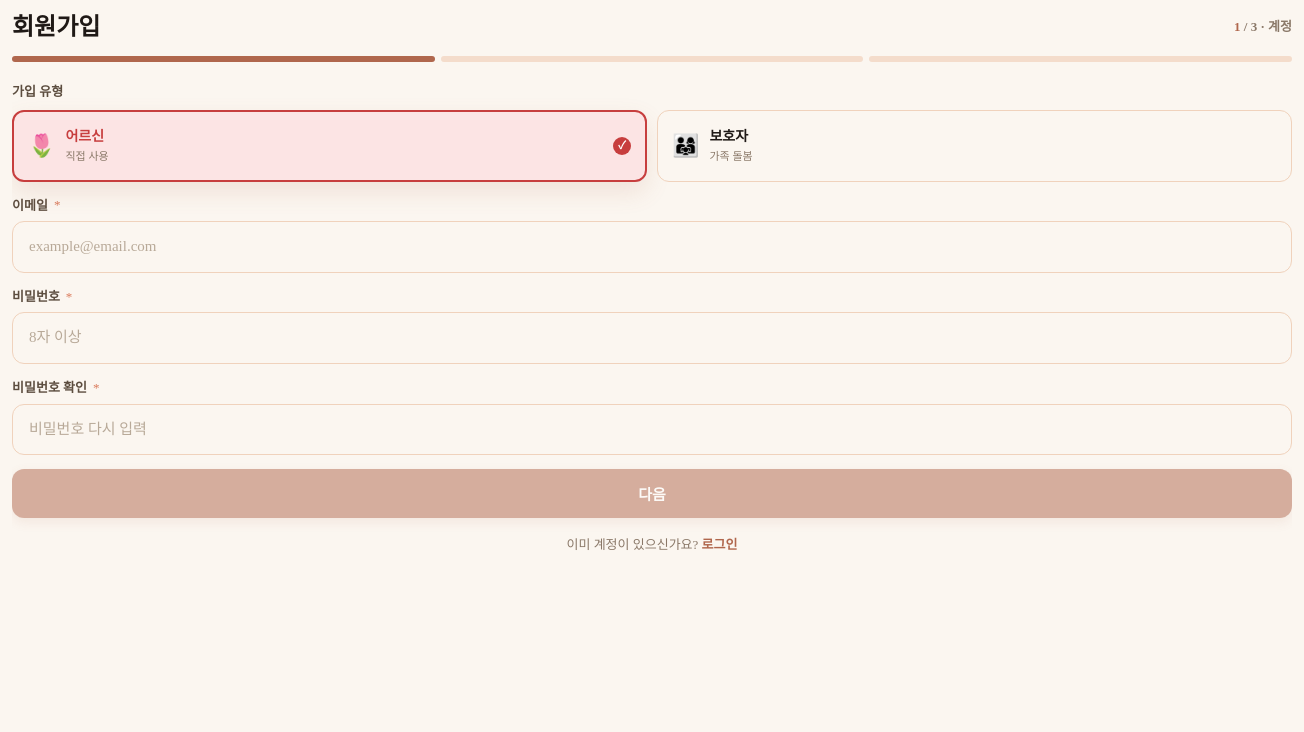
Scenario: 회원가입 단계 (Chrome) › 이메일 가입: 1단계는 계정 칸만, 다음을 누르면 내 정보로 가고 이전으로 돌아와도 입력이 남는다
Expected: the button "다음" is disabled, [12,469,1292,518]
Type "new@test.com" into the field labelled "이메일" at (652, 247), box [13,222,1291,272]
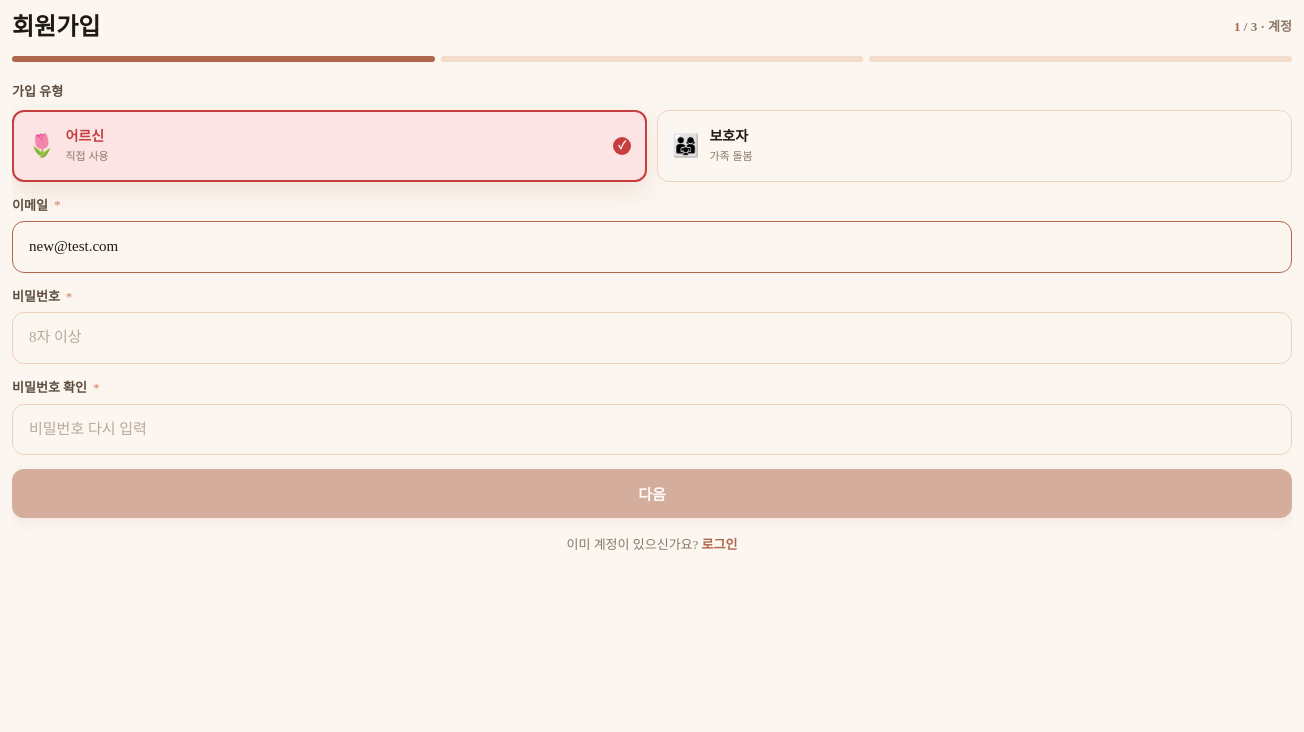
Type "password1!" into the password field labelled "비밀번호" at (652, 338), box [13,313,1291,363]
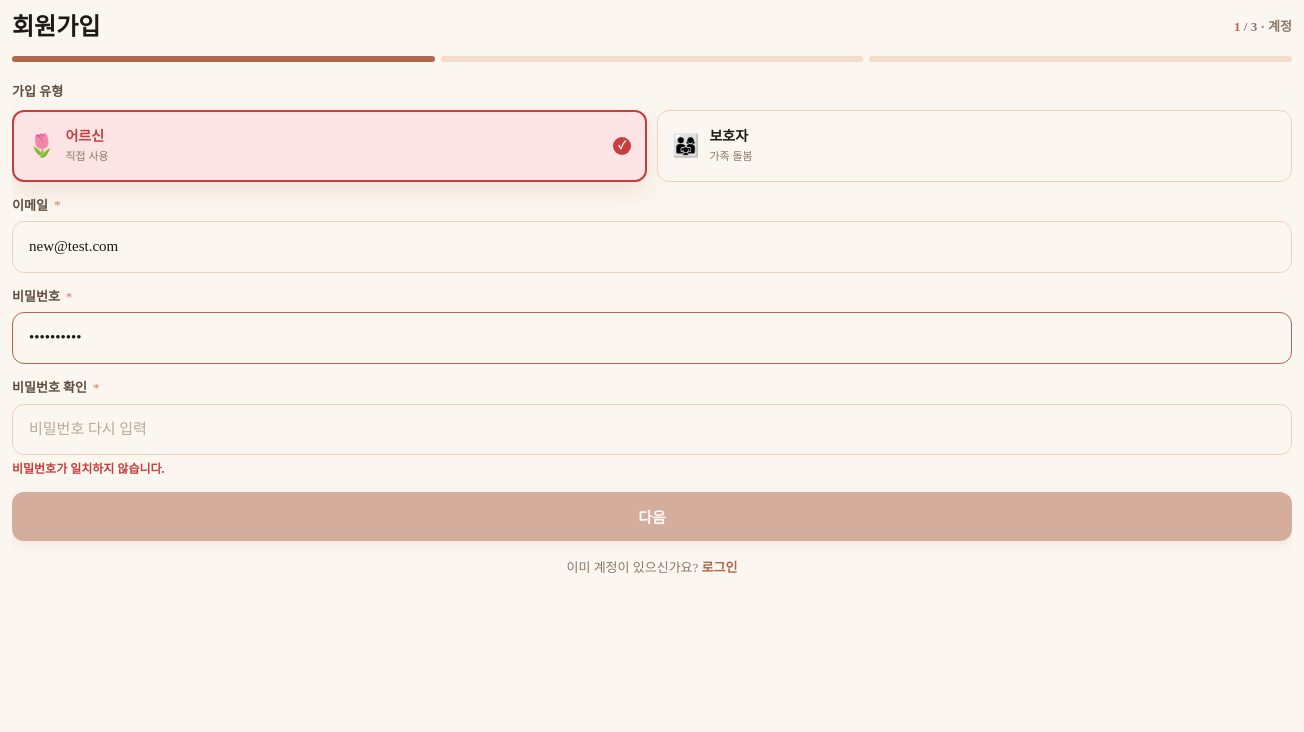
Type "password1!" into the password field labelled "비밀번호 확인" at (652, 429), box [13,404,1291,454]
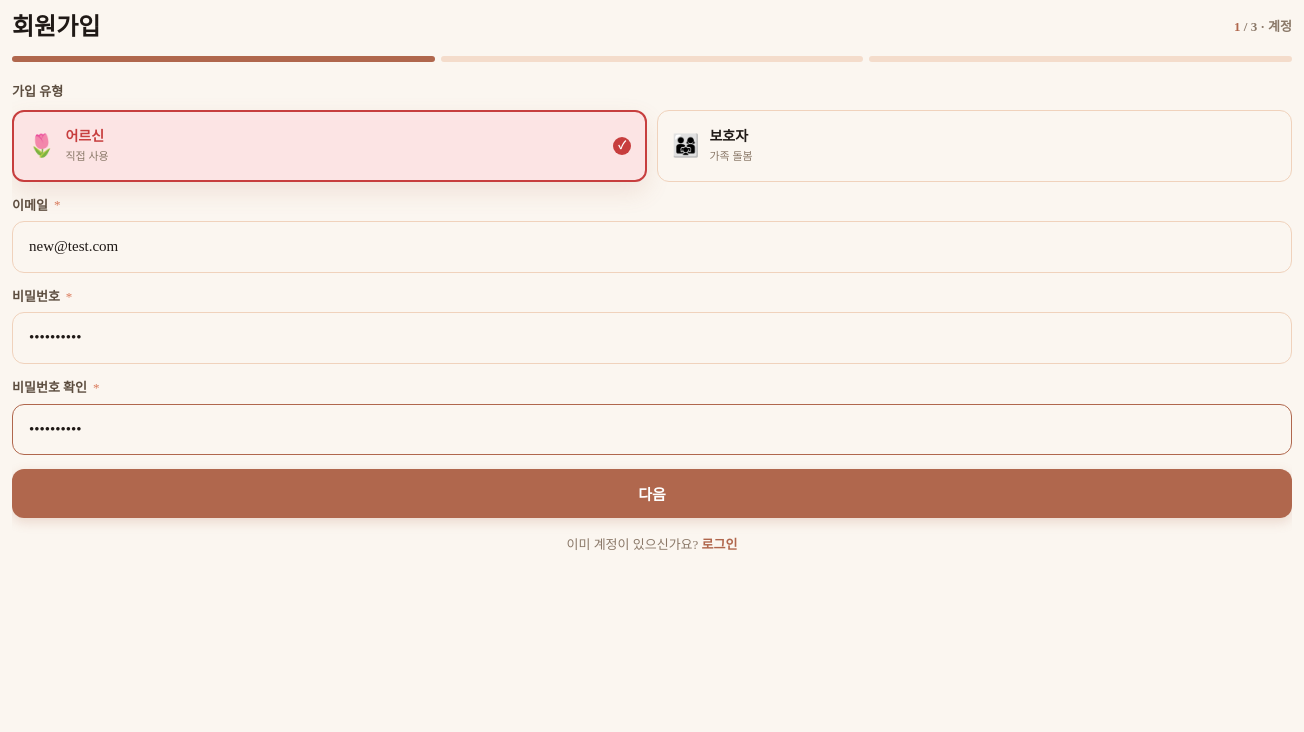
Expected: the button "다음" is enabled
Click the button "다음" at (652, 494), box [12,469,1292,518]
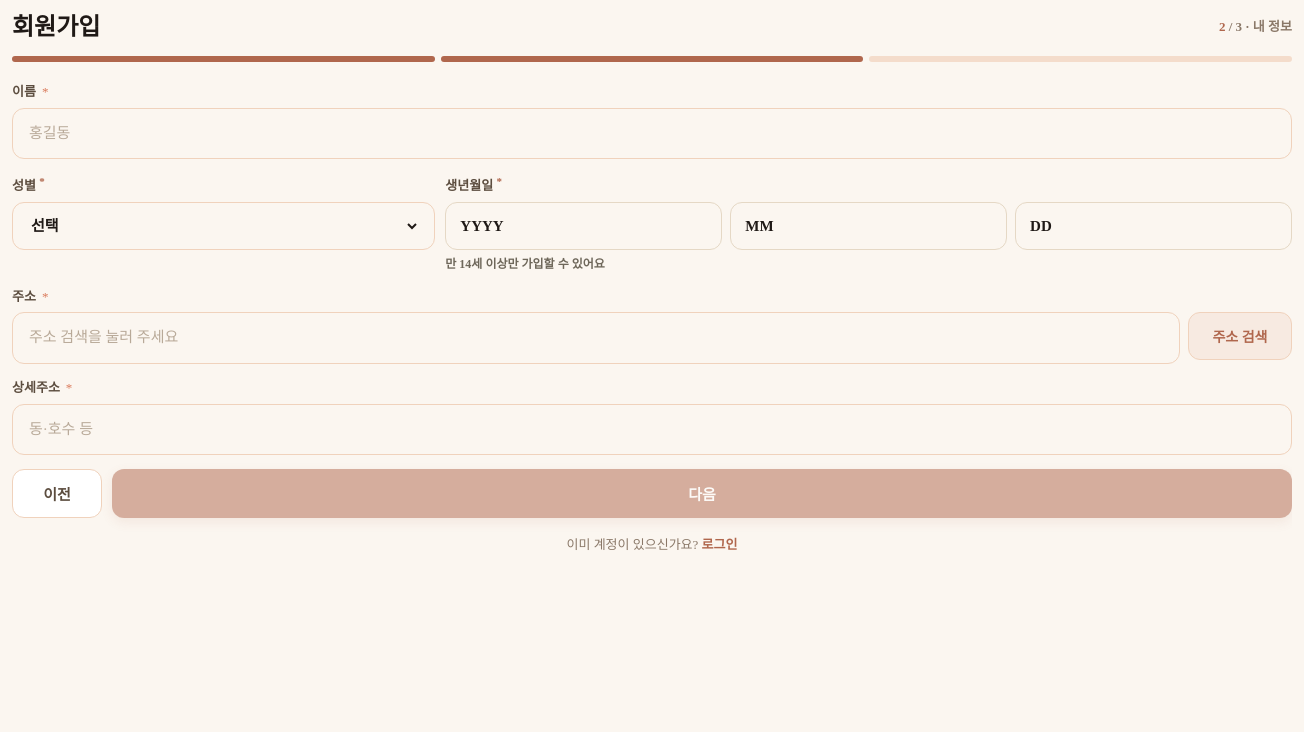
Expected: the field labelled "이름" is shown, [13,108,1291,158]
Expected: the button "다음" is disabled, [112,469,1292,518]
Click the button "이전" at (57, 494), box [12,469,102,518]
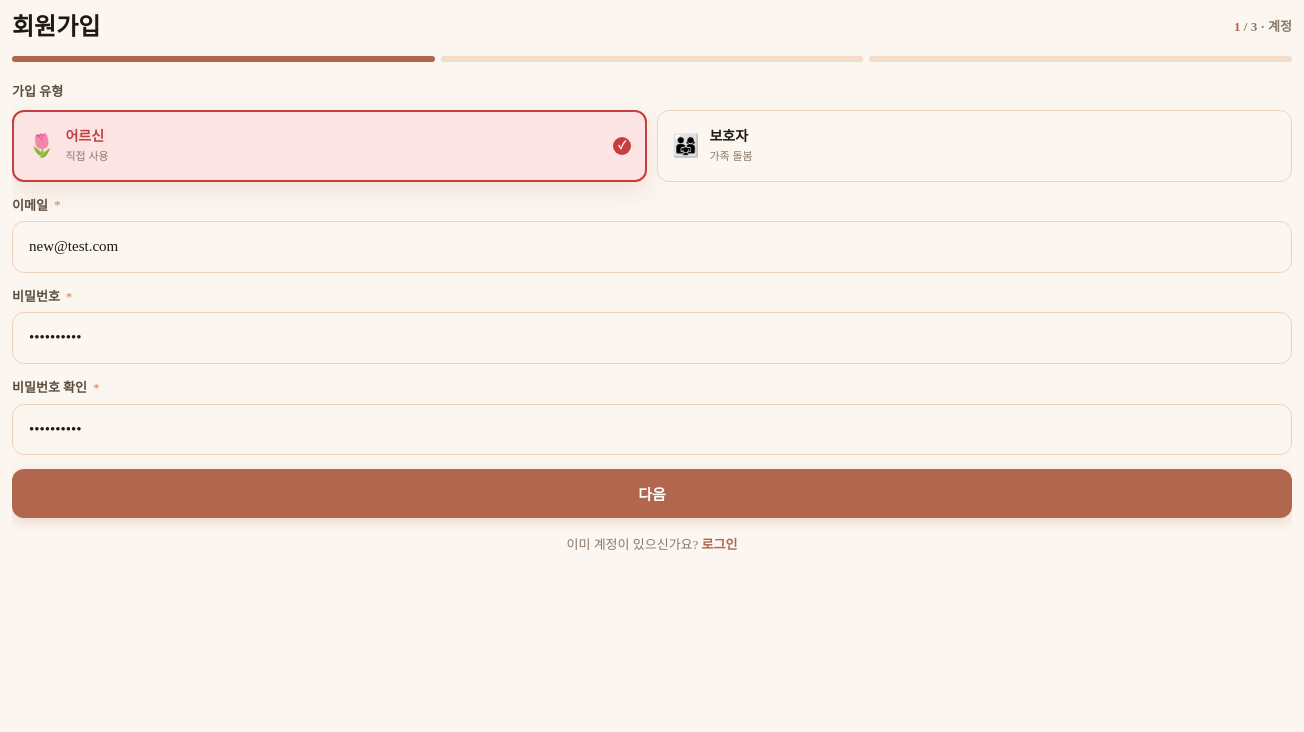
Expected: the field labelled "이메일" holds "new@test.com", [13,222,1291,272]
